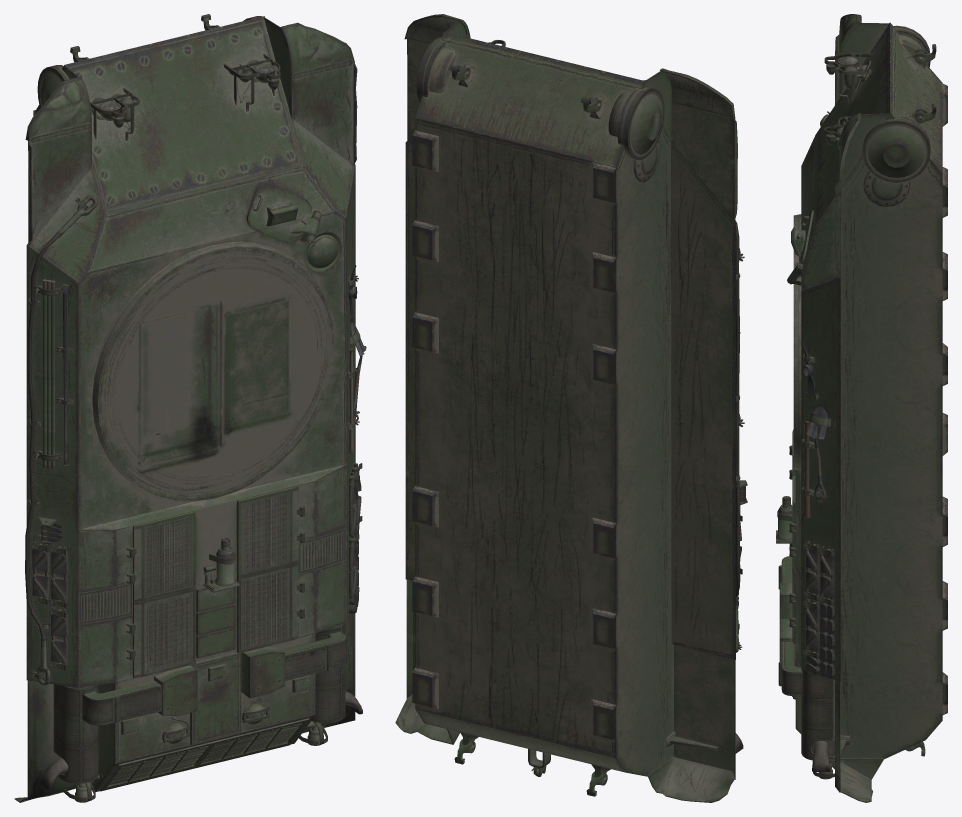
The model's file is Hull.glb.
The picture shows the model from 3 angles, left to right: view 1: azimuth 30°, elevation 25°; view 2: azimuth 150°, elevation 25°; view 3: azimuth 270°, elevation 25°; orthographic projection. The views are drawn at different scales.
Parts seen in each view (by area): view 1: set_0_group_0; view 2: set_0_group_0; view 3: set_0_group_0.
Part boxes in pixels (box(x1,y1,x2,y2)): set_0_group_0: box(14, 14, 366, 802); set_0_group_0: box(395, 14, 747, 802); set_0_group_0: box(776, 14, 947, 802).
Size of the model in its own units: 2.99 by 6.15 by 1.43.
Materials: 1 (1 with a texture image).
